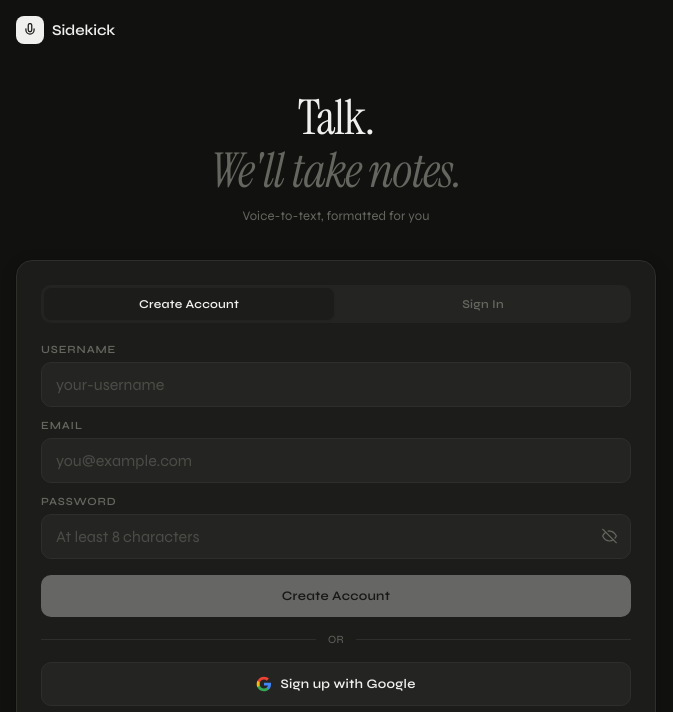
it: Authentication › A-5: Sign In tab shows email and password fields without username
This screenshot has width=673, height=712.
Click the button "Sign In": (483, 304) [338,288,628,320]
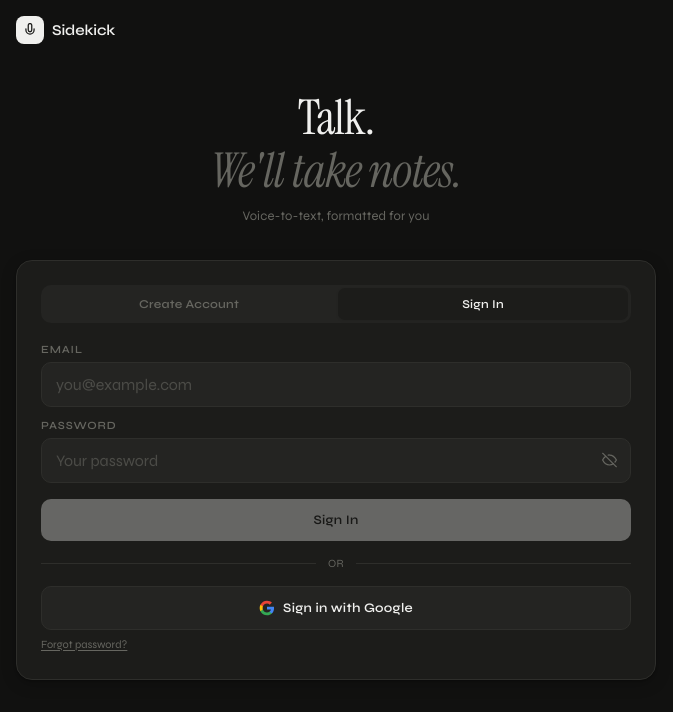
Check: the field with class "auth-input" showing "you@example.com" is shown, box [41,362,631,407]
Check: the field with placeholder "your-username" is gone
